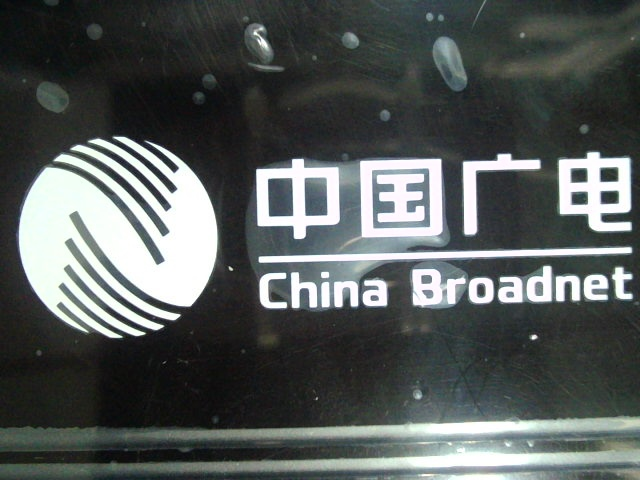AW_ChinaBroadNet: (15, 118, 637, 368)
